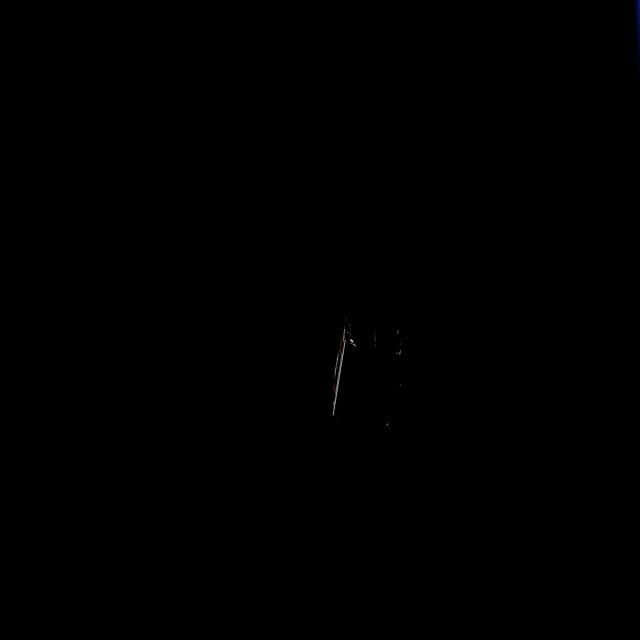medium_debris: (322, 319, 416, 431)
